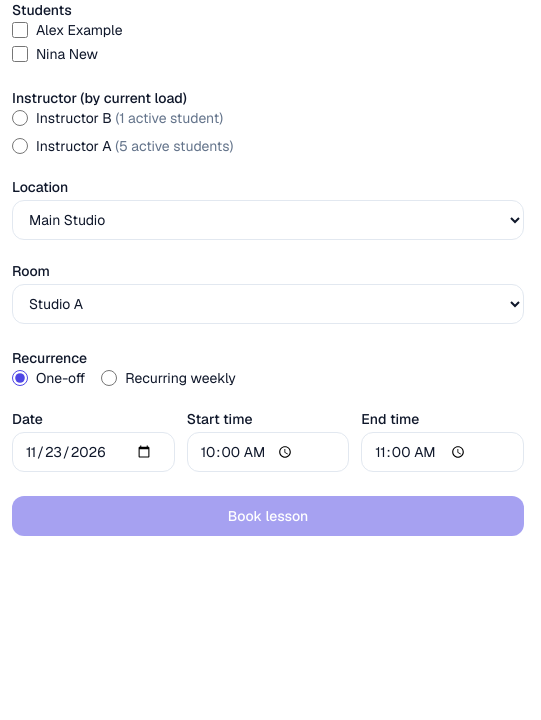
Test case: BookingForm › shows which occurrences were skipped after a recurring series is booked with conflicts
The width and height of the screenshot is (541, 720).
Click the checkbox labelled "Alex Example" at (20, 30), box left=12, top=22, right=28, bottom=38
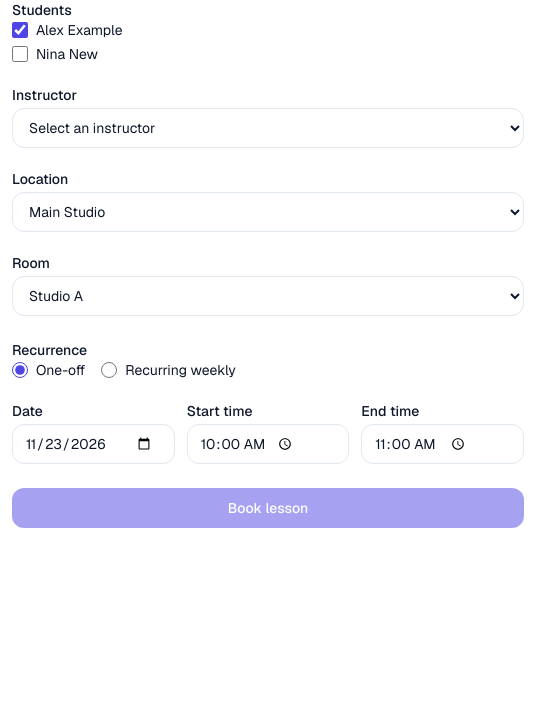
Select "Instructor A" in the dropdown labelled "Instructor" at (268, 128), box left=12, top=108, right=524, bottom=148
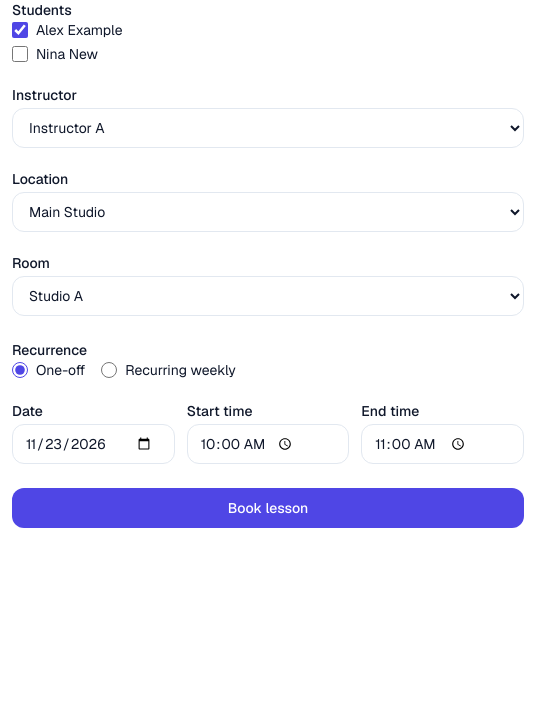
Click the radio button labelled "Recurring weekly" at (109, 370), box left=101, top=362, right=117, bottom=378
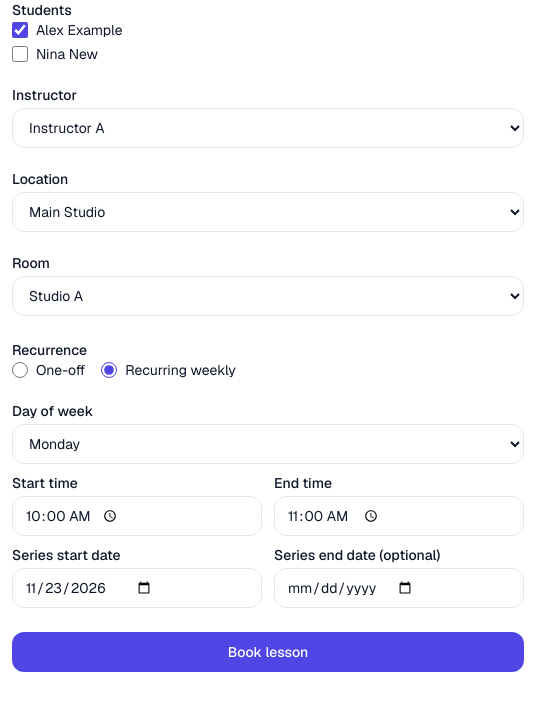
Select "Monday" in the dropdown labelled "Day of week" at (268, 444), box left=12, top=424, right=524, bottom=464
Type "2026-11-16" into the date field labelled "Series start date" at (137, 588), box left=12, top=568, right=262, bottom=608
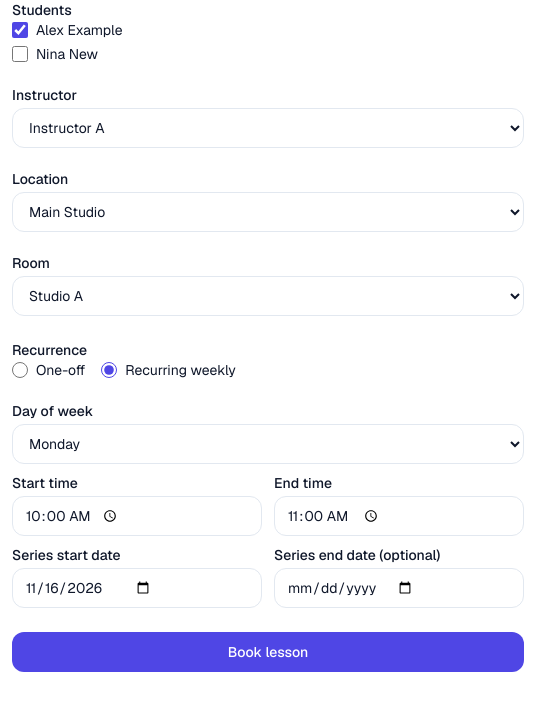
Type "2026-12-14" into the date field labelled "Series end date (optional)" at (399, 588), box left=274, top=568, right=524, bottom=608
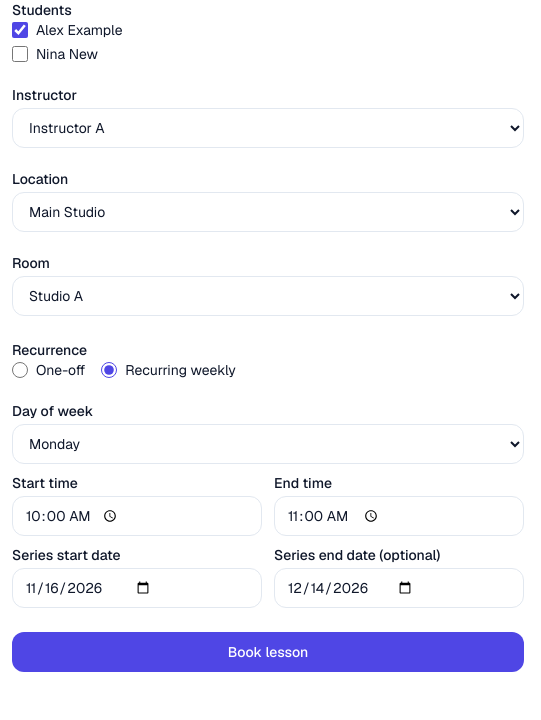
Click the button "Book lesson" at (268, 652), box left=12, top=632, right=524, bottom=672
(page scrolled)
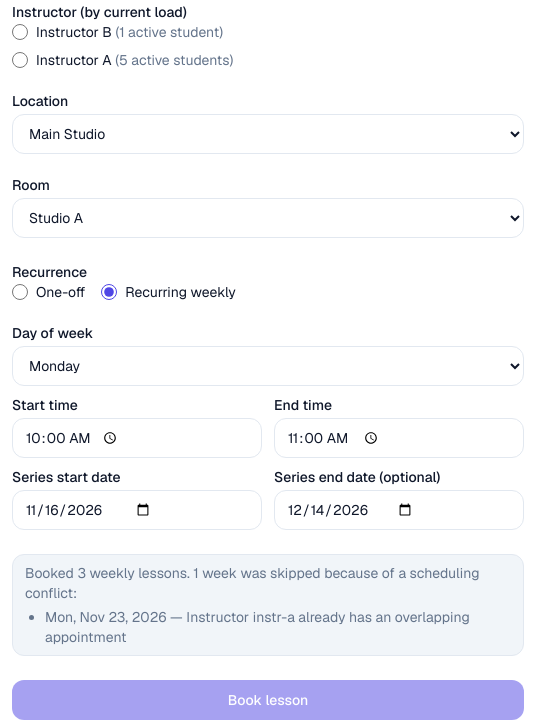
expect the message with test id "series-skip-warning" shows "Booked 3 weekly lessons": met, box left=12, top=554, right=524, bottom=656
expect the message with test id "series-skip-warning" shows "1 week was skipped": met, box left=12, top=554, right=524, bottom=656
expect the message with test id "series-skip-warning" shows "Instructor instr-a already has an overlapping appointment": met, box left=45, top=608, right=470, bottom=646
